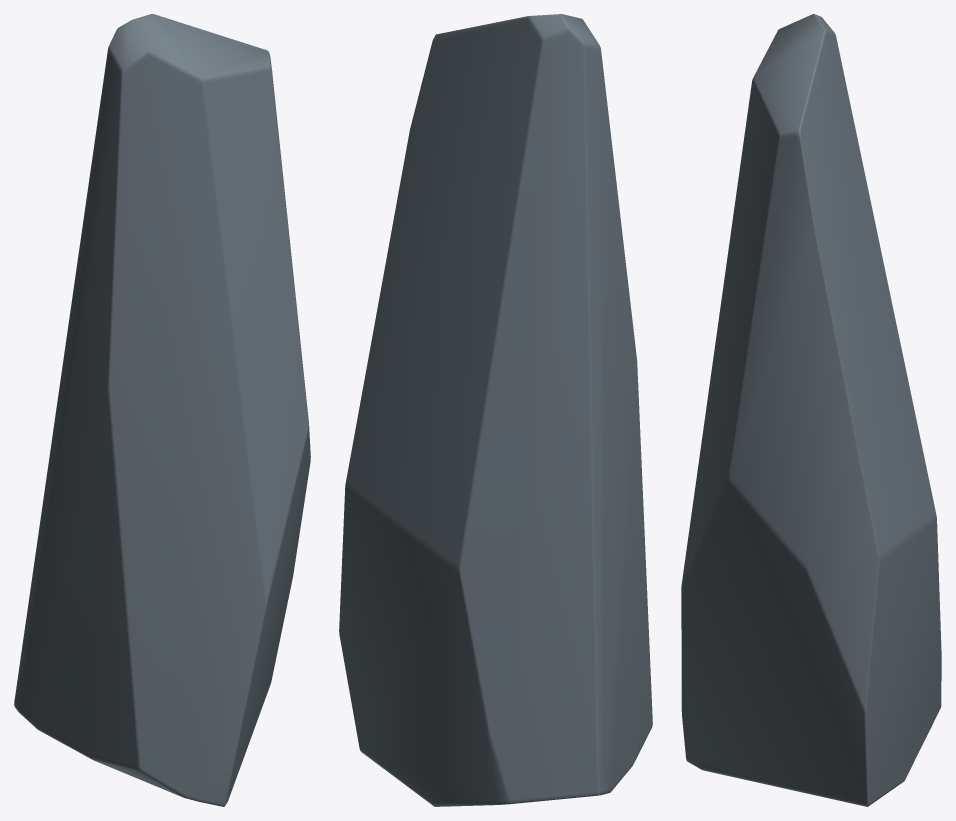
Rendered from rock2-col.glb.
The picture shows the model from 3 angles, left to right: view 1: azimuth 30°, elevation 25°; view 2: azimuth 150°, elevation 25°; view 3: azimuth 270°, elevation 25°; orthographic projection. The views are drawn at different scales.
Parts seen in each view (by area): view 1: rock2-col; view 2: rock2-col; view 3: rock2-col.
Boxes of the visible parts, x1,y1,x2,y2 form: rock2-col: (14,14,310,806); rock2-col: (339,14,652,806); rock2-col: (681,14,941,806).
Bounding box in the file's own units: 0.5535 × 1.5 × 0.4802.
